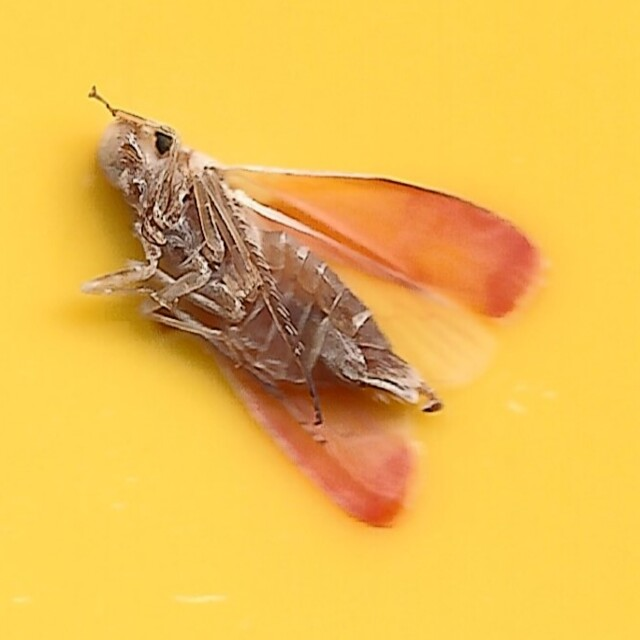Hemiptera: (94, 110, 546, 530)
